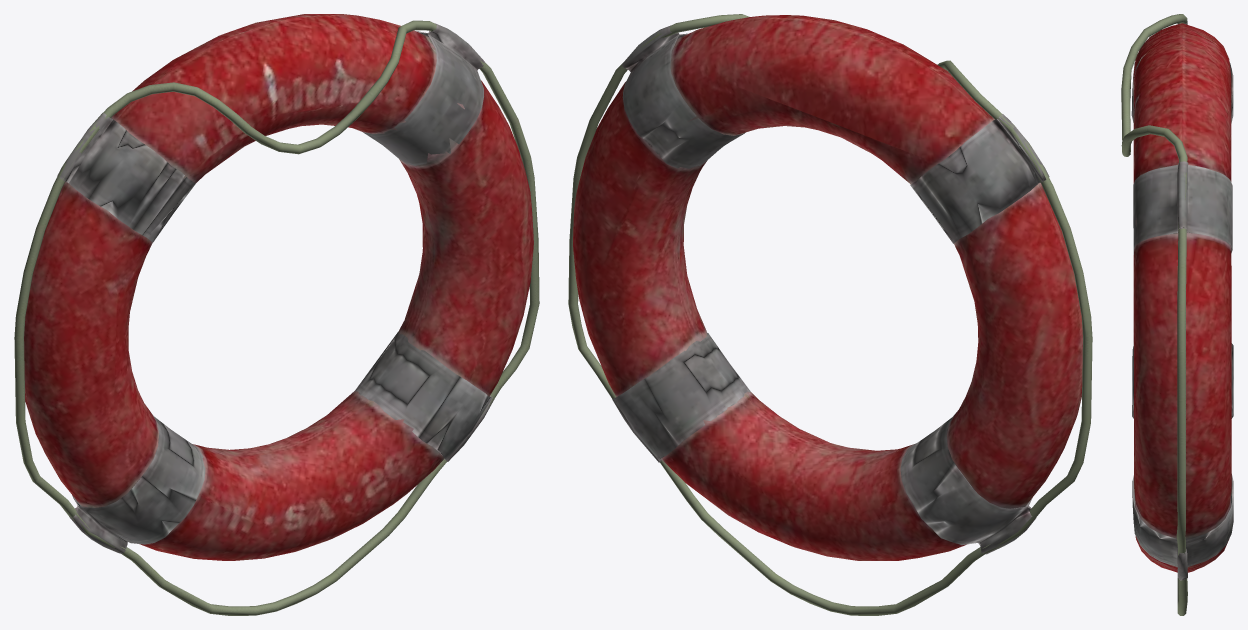
File: lifebuoy.glb
3 views of the same model, side by side, from view 1: azimuth 30°, elevation 25°; view 2: azimuth 150°, elevation 25°; view 3: azimuth 270°, elevation 25° (orthographic). The views are drawn at different scales.
Parts seen in each view (by area): view 1: lifebuoy; view 2: lifebuoy; view 3: lifebuoy.
Boxes of the visible parts, bbox=[...] form: lifebuoy: bbox=[14, 14, 539, 615]; lifebuoy: bbox=[568, 14, 1092, 615]; lifebuoy: bbox=[1121, 14, 1233, 615].
Size of the model in its own units: 0.783 by 0.8412 by 0.1548.
Materials: 1 (1 with a texture image).
